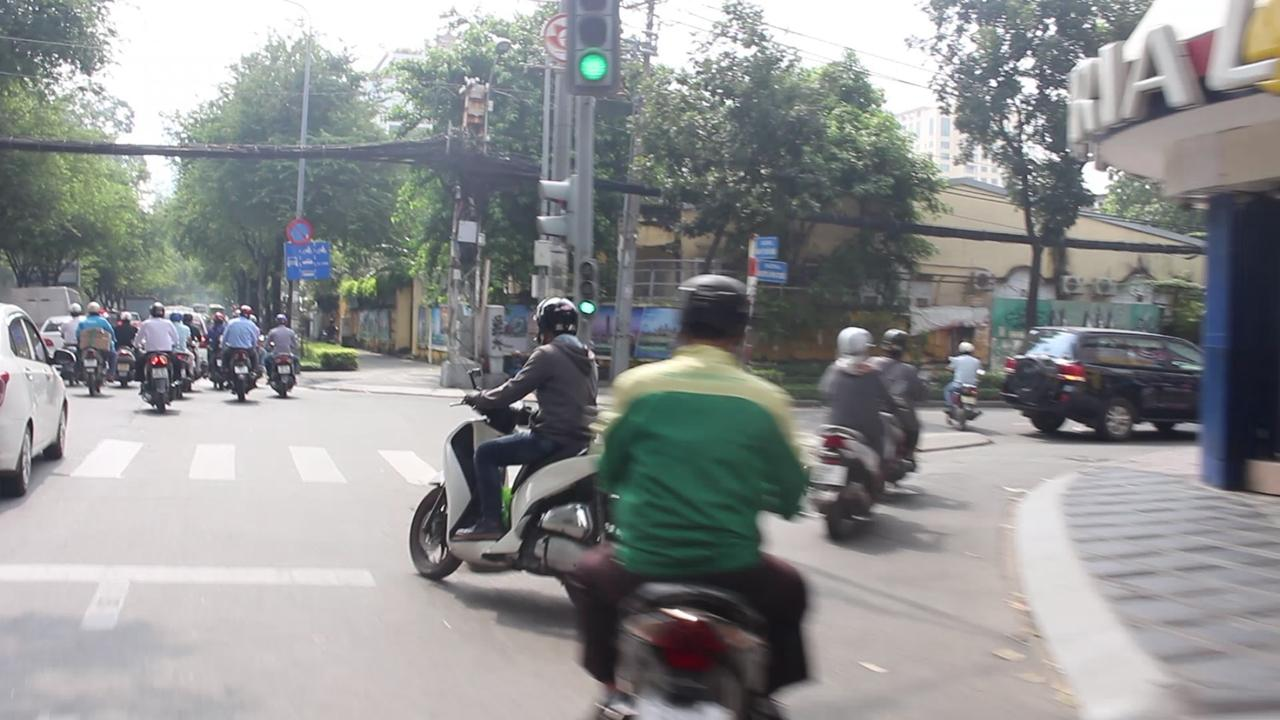P.102: (286, 218, 312, 246)
